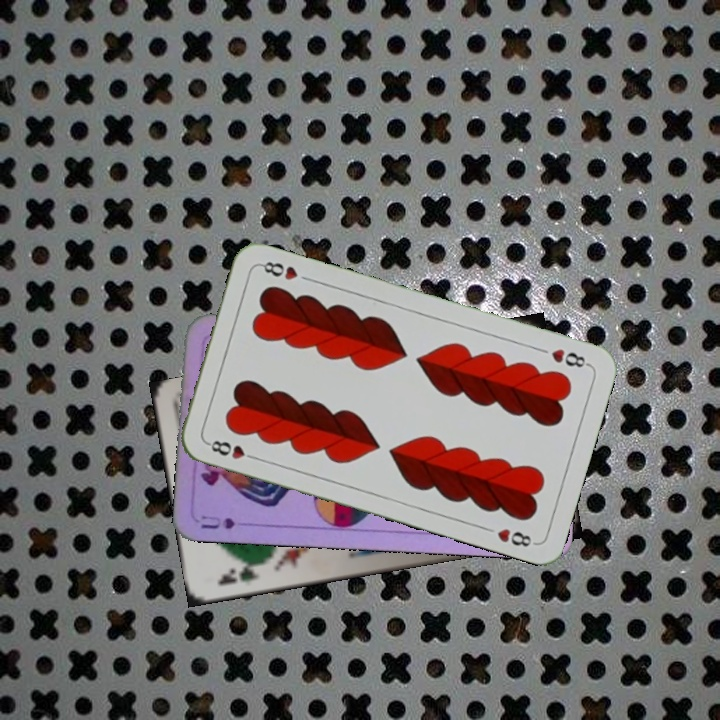GK: (213, 558, 266, 588)
H8: (203, 436, 261, 463), (547, 344, 592, 371)
SU: (197, 511, 256, 532)
